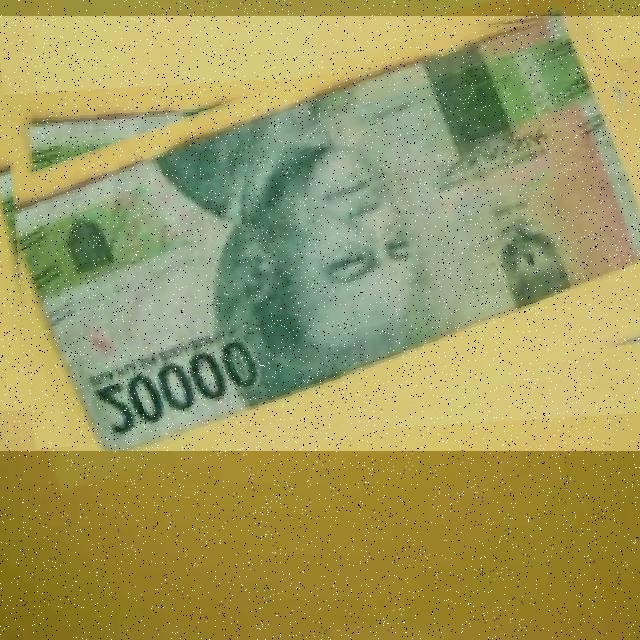dua puluh ribu rupiah: (0, 16, 640, 451)
